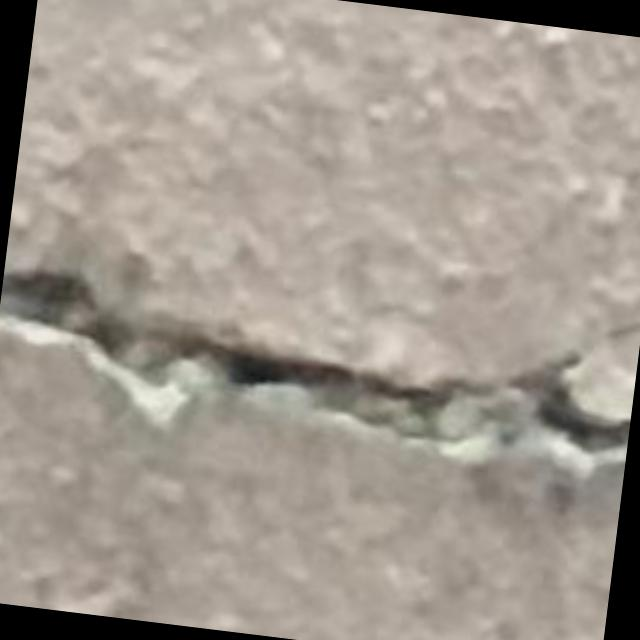crack: (0, 271, 630, 457)
